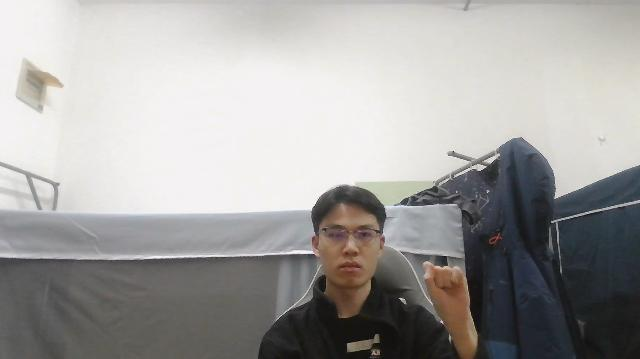ten: (417, 258, 473, 321)
